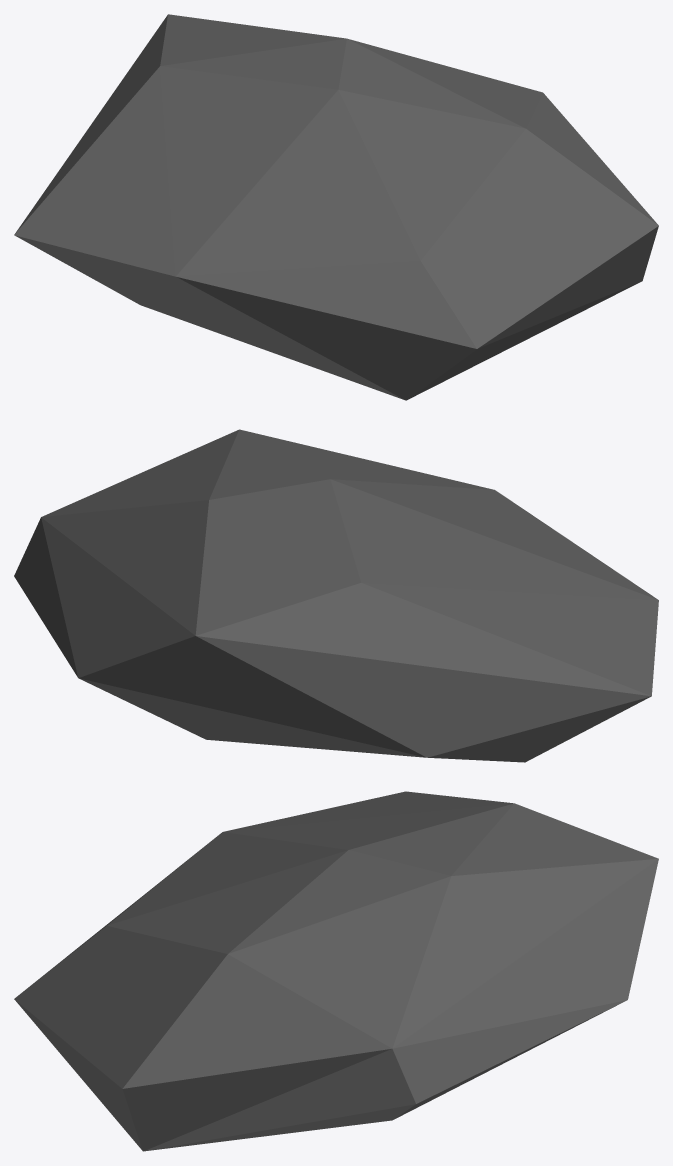
File: Rock_2.fbx
3 renders of one model, top to bottom at view 1: azimuth 30°, elevation 25°; view 2: azimuth 150°, elevation 25°; view 3: azimuth 270°, elevation 25°, orthographic. The views are drawn at different scales.
Parts seen in each view (by area): view 1: M_Rock 2; view 2: M_Rock 2; view 3: M_Rock 2.
Boxes of the visible parts, left/top/right/bottom form: M_Rock 2: left=14, top=14, right=658, bottom=400; M_Rock 2: left=14, top=429, right=658, bottom=762; M_Rock 2: left=14, top=791, right=658, bottom=1151.
Size of the model in its own units: 56.28 by 23.85 by 53.83.
1 material, 1 textured.
